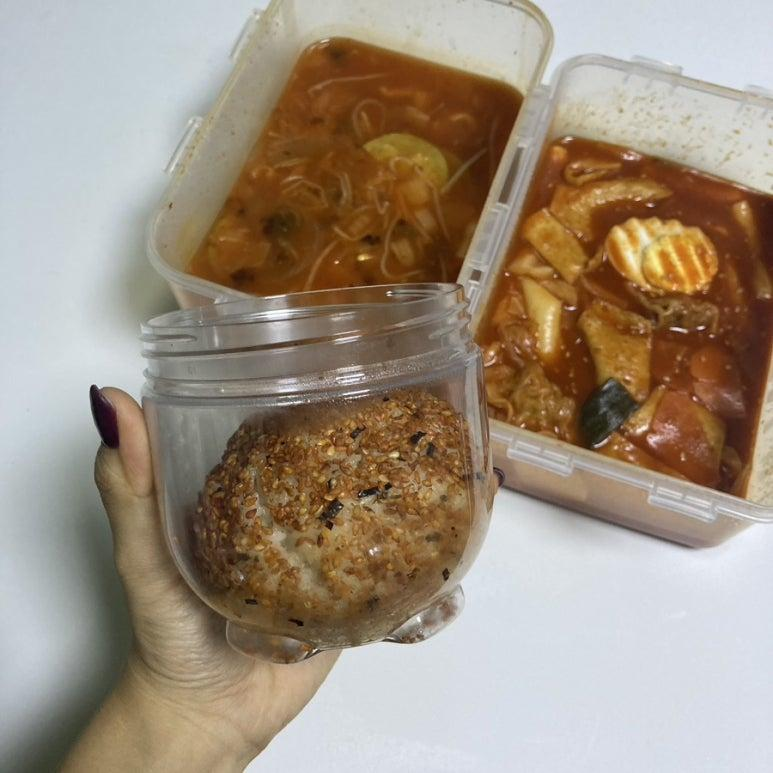Lunch Box: (458, 54, 772, 547), (147, 0, 552, 307)
